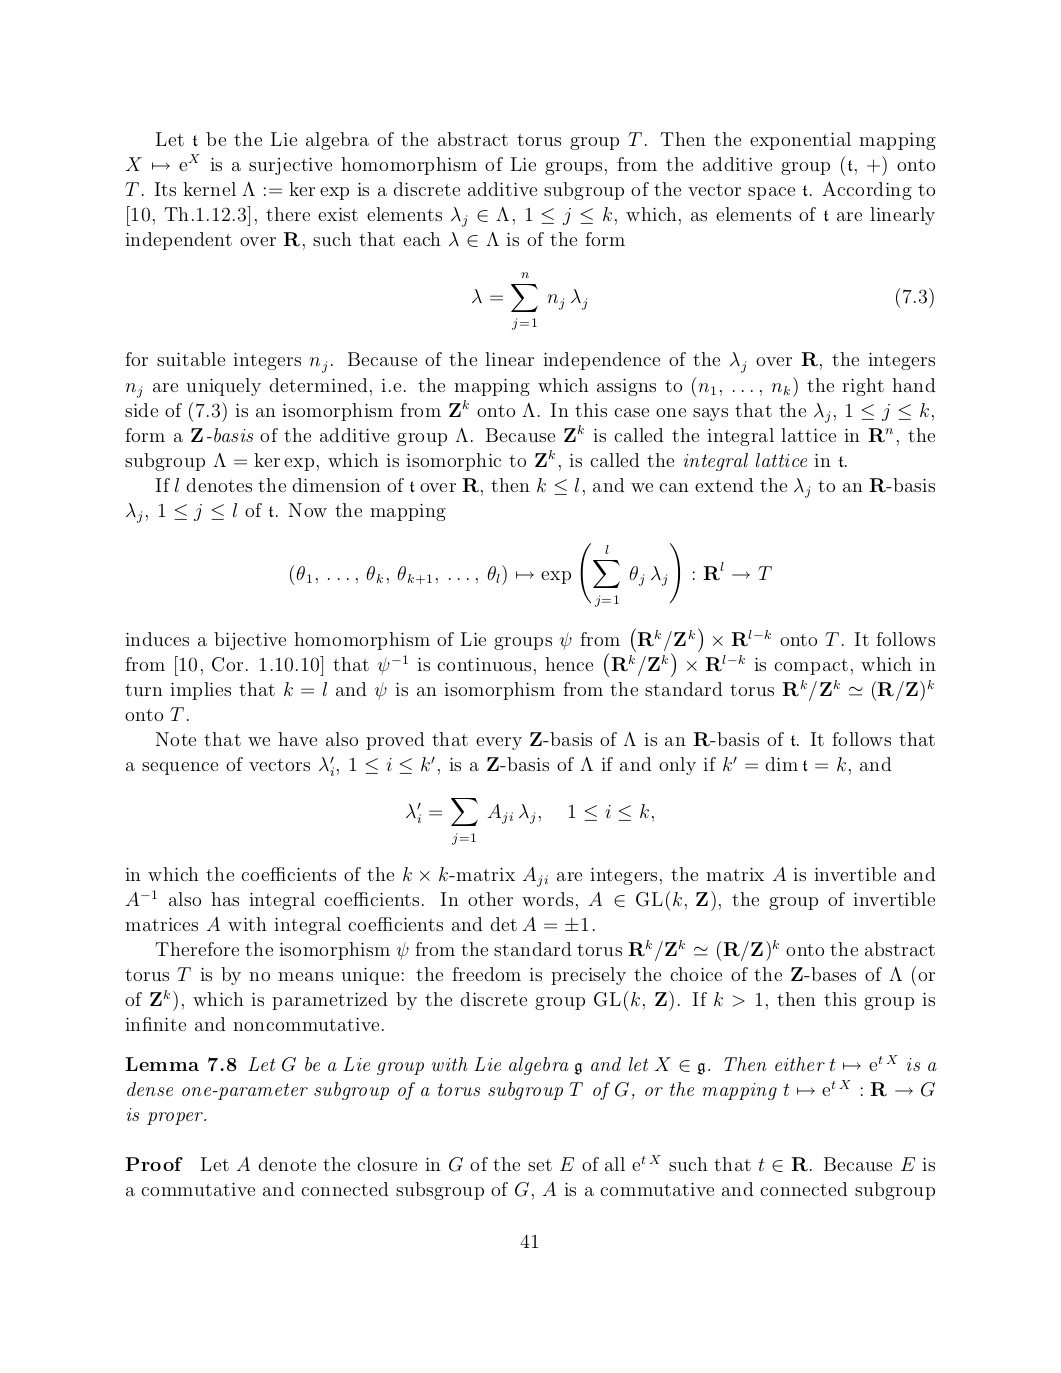formula: (290, 542, 771, 607), (473, 272, 933, 329), (406, 798, 653, 844)
